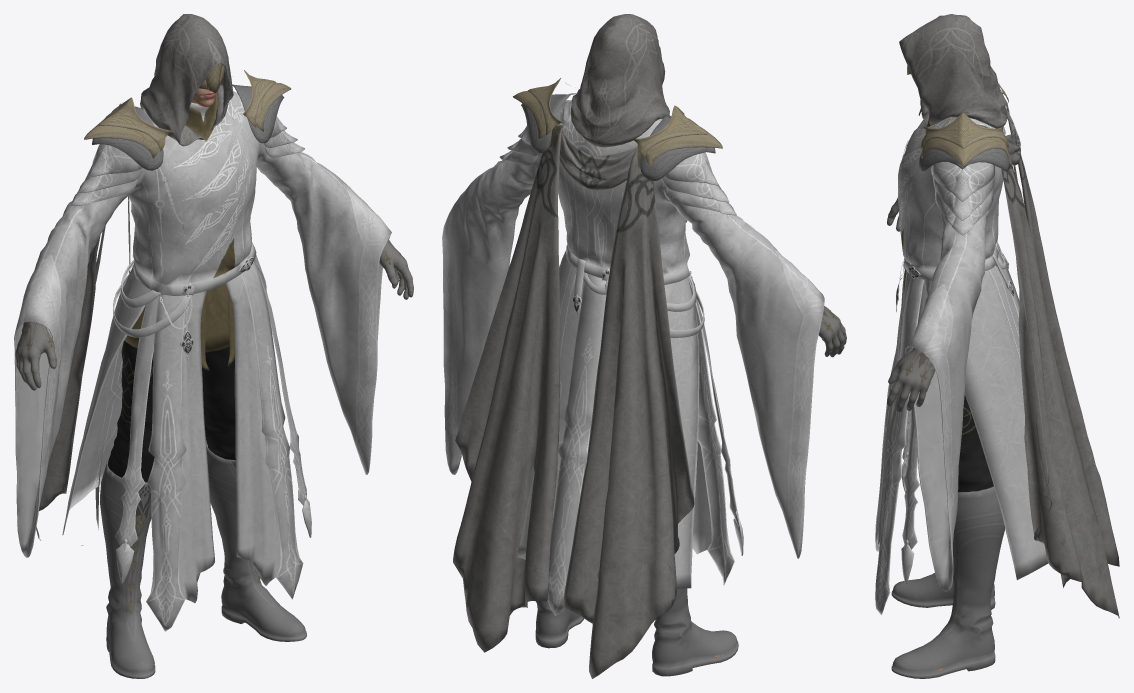
The picture shows the model from 3 angles, left to right: view 1: azimuth 30°, elevation 25°; view 2: azimuth 150°, elevation 25°; view 3: azimuth 270°, elevation 25°; orthographic projection.
Parts seen in each view (by area): view 1: GM_0036_T04_Body, GM_0036_T04_Boots, GM_0036_T04_Helmet, GM_0036_T04_Pants, GM_0036_T04_Shoulder, GM_0036_T04_Cape, GM_0036_T04_Glove; view 2: GM_0036_T04_Cape, GM_0036_T04_Body, GM_0036_T04_Helmet, GM_0036_T04_Boots, GM_0036_T04_Shoulder, GM_0036_T04_Glove; view 3: GM_0036_T04_Body, GM_0036_T04_Cape, GM_0036_T04_Boots, GM_0036_T04_Helmet, GM_0036_T04_Shoulder, GM_0036_T04_Glove, GM_0036_T04_Pants.
Part boxes in pixels (x1=…): GM_0036_T04_Body: x1=14, y1=91, x2=391, y2=631; GM_0036_T04_Boots: x1=100, y1=440, x2=306, y2=678; GM_0036_T04_Helmet: x1=140, y1=14, x2=233, y2=146; GM_0036_T04_Pants: x1=107, y1=340, x2=238, y2=662; GM_0036_T04_Shoulder: x1=84, y1=70, x2=291, y2=170; GM_0036_T04_Cape: x1=36, y1=196, x2=130, y2=545; GM_0036_T04_Glove: x1=15, y1=239, x2=413, y2=390; GM_0036_T04_Cape: x1=453, y1=125, x2=694, y2=678; GM_0036_T04_Body: x1=442, y1=99, x2=824, y2=615; GM_0036_T04_Helmet: x1=571, y1=14, x2=669, y2=147; GM_0036_T04_Boots: x1=535, y1=588, x2=738, y2=676; GM_0036_T04_Shoulder: x1=513, y1=78, x2=722, y2=180; GM_0036_T04_Glove: x1=818, y1=306, x2=846, y2=357; GM_0036_T04_Body: x1=875, y1=114, x2=1048, y2=614; GM_0036_T04_Cape: x1=1001, y1=107, x2=1119, y2=618; GM_0036_T04_Boots: x1=891, y1=486, x2=1004, y2=678; GM_0036_T04_Helmet: x1=899, y1=14, x2=1007, y2=128; GM_0036_T04_Shoulder: x1=918, y1=83, x2=1009, y2=171; GM_0036_T04_Glove: x1=887, y1=198, x2=935, y2=412; GM_0036_T04_Pants: x1=932, y1=395, x2=993, y2=672.
Size of the model in its own units: 1.25 by 1.91 by 0.6832.
Materials: 10 (9 with a texture image).
